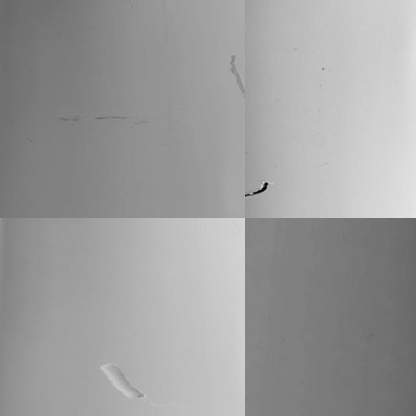fengxi: (246, 180, 270, 203)
sunshang: (94, 359, 146, 402), (226, 52, 245, 92)
